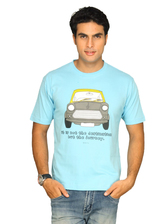clothoes: (31, 57, 149, 193)
watch: (32, 169, 59, 183)
